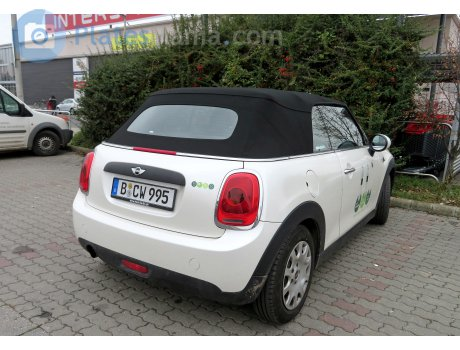License Plates: (121, 179, 168, 202)
